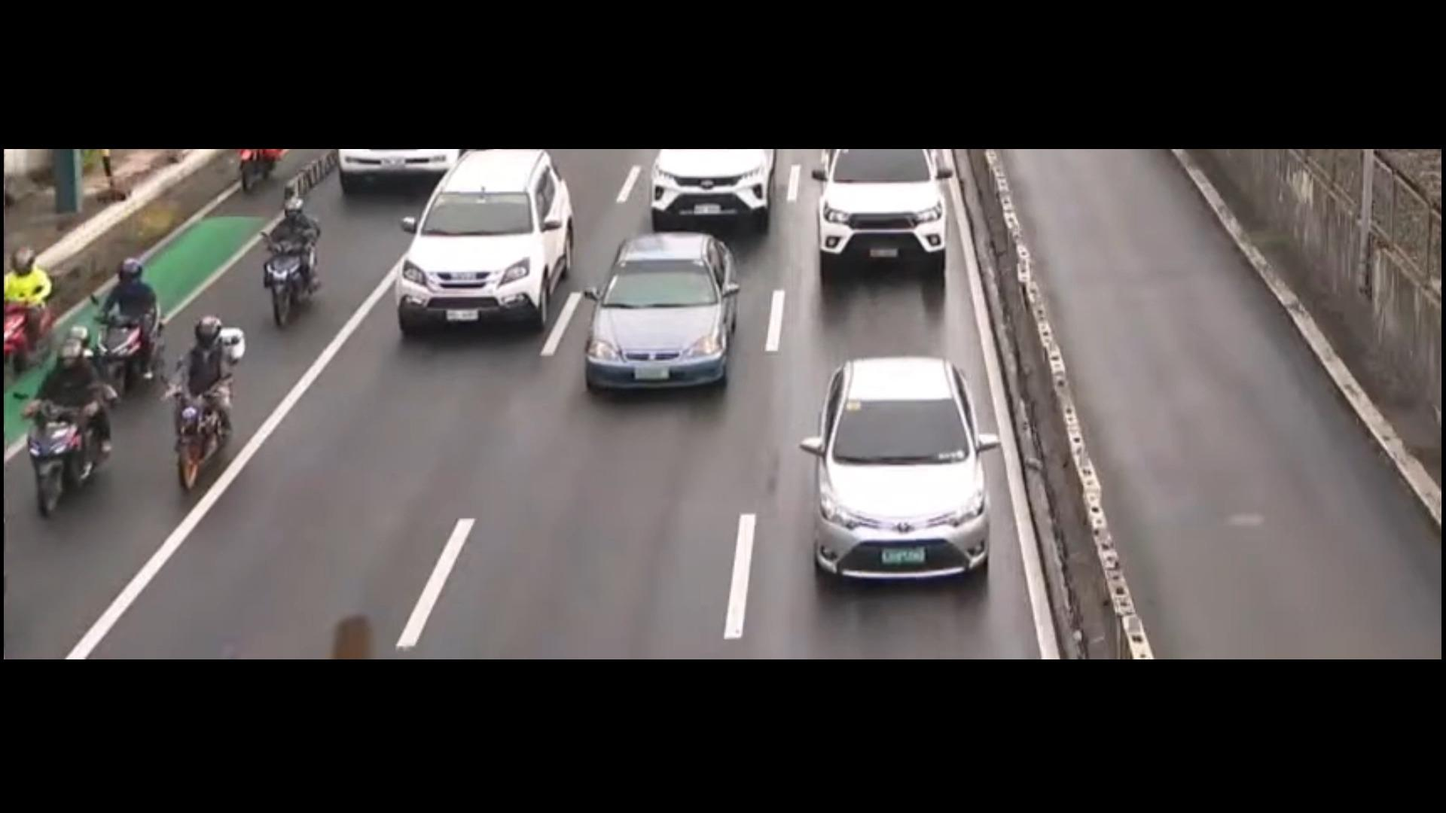Motorcycle: (146, 296, 272, 502), (16, 326, 113, 529), (253, 187, 345, 342), (88, 254, 172, 405), (0, 224, 78, 380)
SUV: (379, 151, 599, 351)
Sedan: (804, 339, 998, 595), (579, 236, 761, 408)
